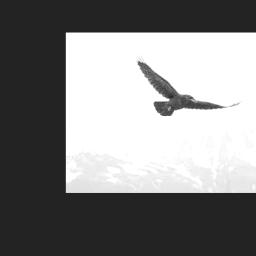Crow: (133, 49, 244, 116)
